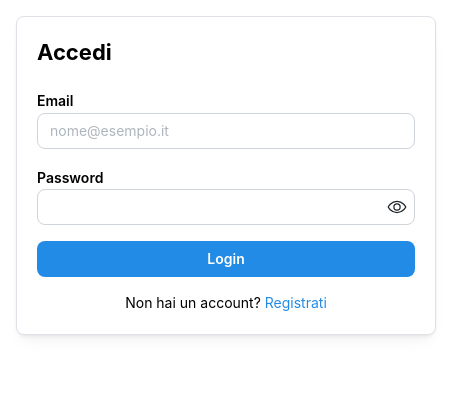
Scenario: LoginPage › shows validation errors on empty submit
The image size is (453, 393).
Click the button "Login": (226, 259) [37, 241, 415, 277]
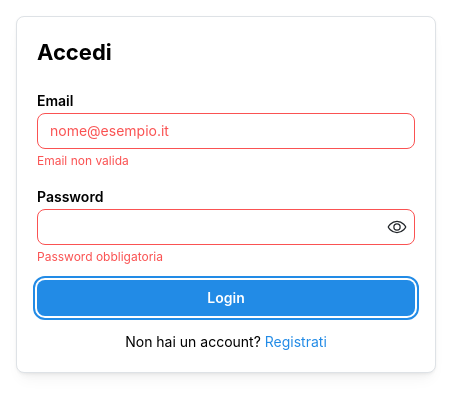
Now the text "Email non valida" is shown, box [37, 153, 129, 168]
Now the text "Password obbligatoria" is shown, box [37, 249, 163, 264]
